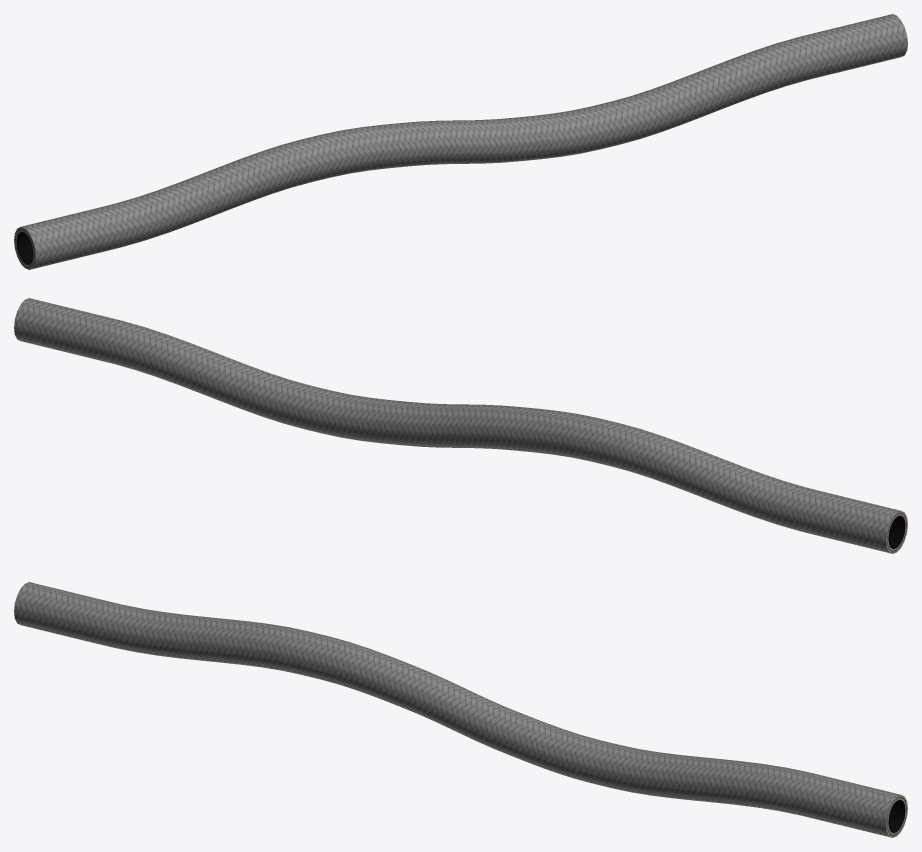
The picture shows the model from 3 angles, top to bottom: view 1: azimuth 30°, elevation 25°; view 2: azimuth 150°, elevation 25°; view 3: azimuth 330°, elevation 25°; orthographic projection.
Parts seen in each view (by area): view 1: SB_SS-08; view 2: SB_SS-08; view 3: SB_SS-08.
Part boxes in pixels (x1,y1,x2,y2): SB_SS-08: (14, 14, 907, 269); SB_SS-08: (14, 298, 907, 553); SB_SS-08: (14, 582, 907, 837).
Size of the model in its own units: 0.3074 by 0.0262 by 0.0135.
Materials: 2 (2 with a texture image).
